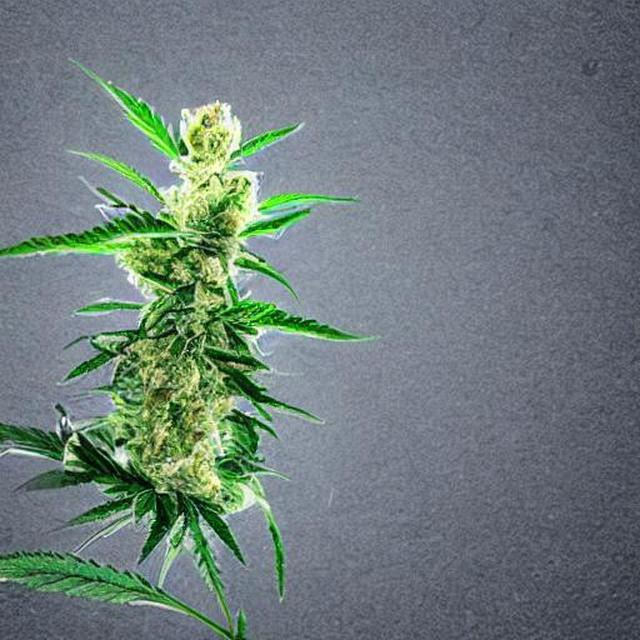Marijuana Plant: (0, 95, 515, 640)
